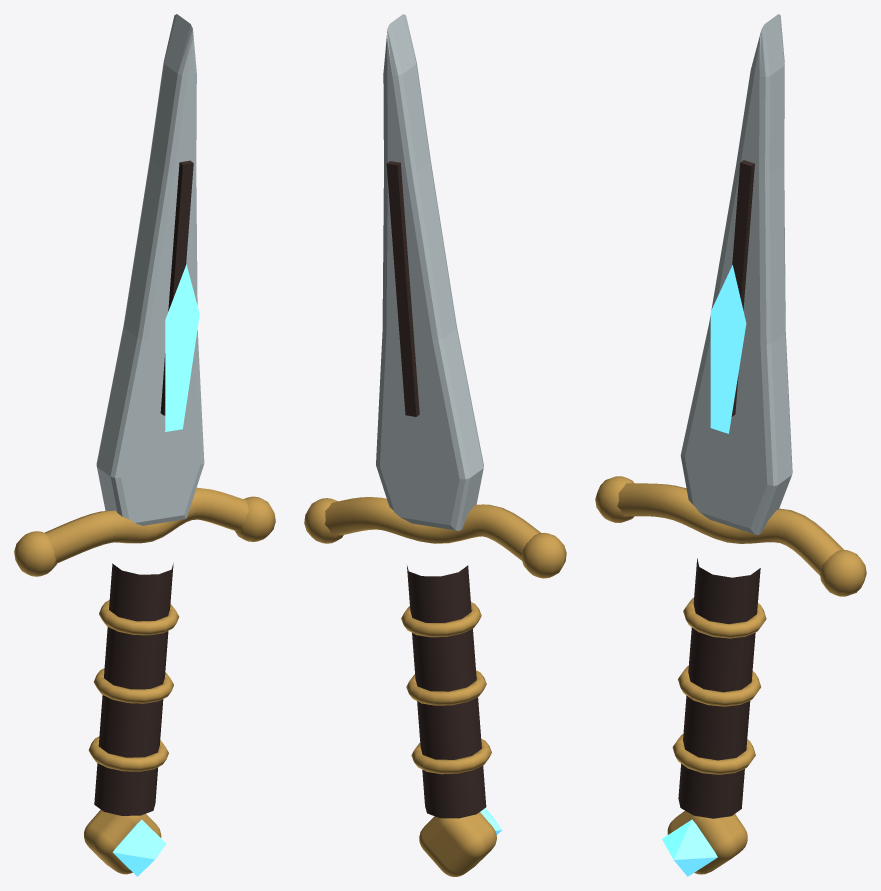
The model's file is weapon_dagger.glb.
3 views of the same model, side by side, from view 1: azimuth 30°, elevation 25°; view 2: azimuth 150°, elevation 25°; view 3: azimuth 330°, elevation 25° (orthographic). The views are drawn at different scales.
Visible parts, largest first — view 1: blade_mesh, weapon_grip, weapon_guard, weapon_rune, weapon_pommel, weapon_fuller_1, weapon_rune_pommel, weapon_guard_cap_-1, weapon_trim_wrap_1, weapon_trim_wrap_2, weapon_trim_wrap_0, weapon_guard_cap_1; view 2: blade_mesh, weapon_grip, weapon_guard, weapon_fuller_-1, weapon_pommel, weapon_guard_cap_-1, weapon_trim_wrap_1, weapon_trim_wrap_2, weapon_trim_wrap_0, weapon_guard_cap_1; view 3: blade_mesh, weapon_grip, weapon_guard, weapon_rune, weapon_pommel, weapon_fuller_1, weapon_rune_pommel, weapon_guard_cap_1, weapon_trim_wrap_2, weapon_trim_wrap_0, weapon_trim_wrap_1, weapon_guard_cap_-1.
Part boxes in pixels (x1,y1,x2,y2): blade_mesh: (96,14,204,525); weapon_grip: (94,563,173,815); weapon_guard: (44,487,248,563); weapon_rune: (165,264,199,431); weapon_pommel: (84,810,161,874); weapon_fuller_1: (160,160,193,415); weapon_rune_pommel: (112,819,166,876); weapon_guard_cap_-1: (14,531,56,576); weapon_trim_wrap_1: (94,668,173,703); weapon_trim_wrap_2: (88,736,168,771); weapon_trim_wrap_0: (99,600,179,635); weapon_guard_cap_1: (234,496,275,541); blade_mesh: (376,14,483,530); weapon_grip: (407,565,486,818); weapon_guard: (324,497,540,560); weapon_fuller_-1: (386,161,419,416); weapon_pommel: (419,812,496,876); weapon_guard_cap_-1: (521,533,566,578); weapon_trim_wrap_1: (406,670,486,705); weapon_trim_wrap_2: (411,739,491,774); weapon_trim_wrap_0: (401,602,481,637); weapon_guard_cap_1: (304,498,343,543); blade_mesh: (680,14,792,535); weapon_grip: (678,558,760,818); weapon_guard: (617,483,843,575); weapon_rune: (710,265,746,433); weapon_pommel: (667,811,747,874); weapon_fuller_1: (731,160,754,416); weapon_rune_pommel: (662,819,717,876); weapon_guard_cap_1: (820,550,866,596); weapon_trim_wrap_2: (672,734,755,774); weapon_trim_wrap_0: (683,598,766,638); weapon_trim_wrap_1: (678,666,760,706); weapon_guard_cap_-1: (595,476,634,522).
Bounding box in the file's own units: 0.5183 × 1.62 × 0.1842.
